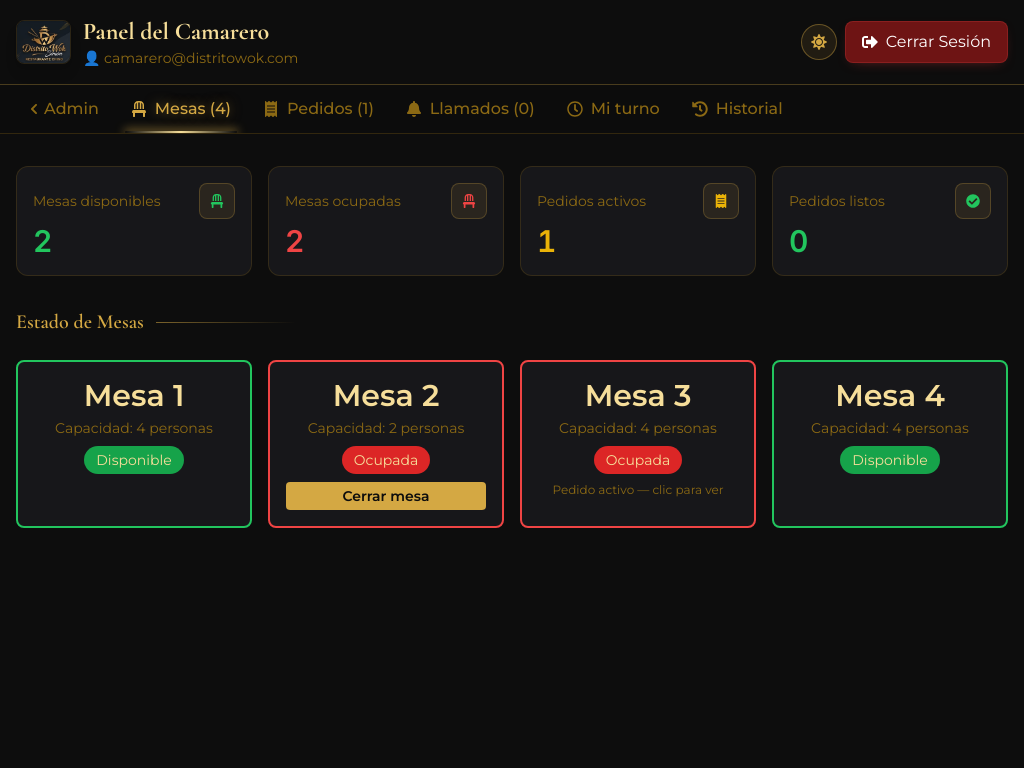
Test case: oculta acciones de estado sin permiso update_order_status
Click the button "Pedidos (1)": click(318, 109) [251,85,386,133]
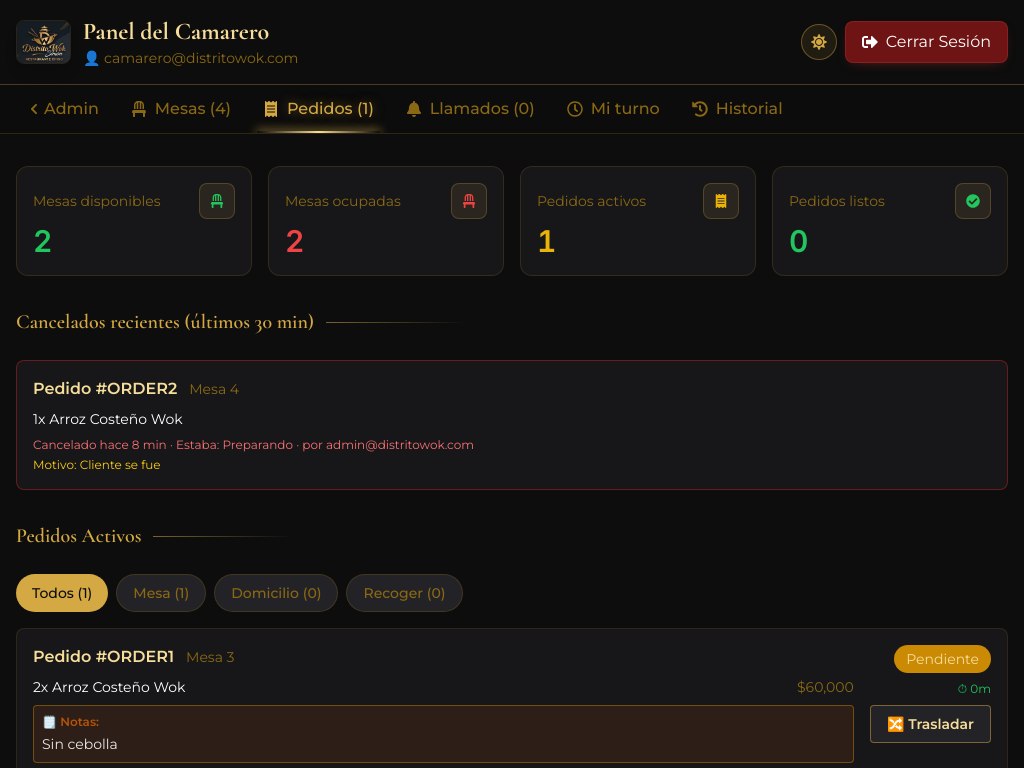
Expected: the text "1x Arroz Costeño Wok" is shown, [33,410,183,428]
